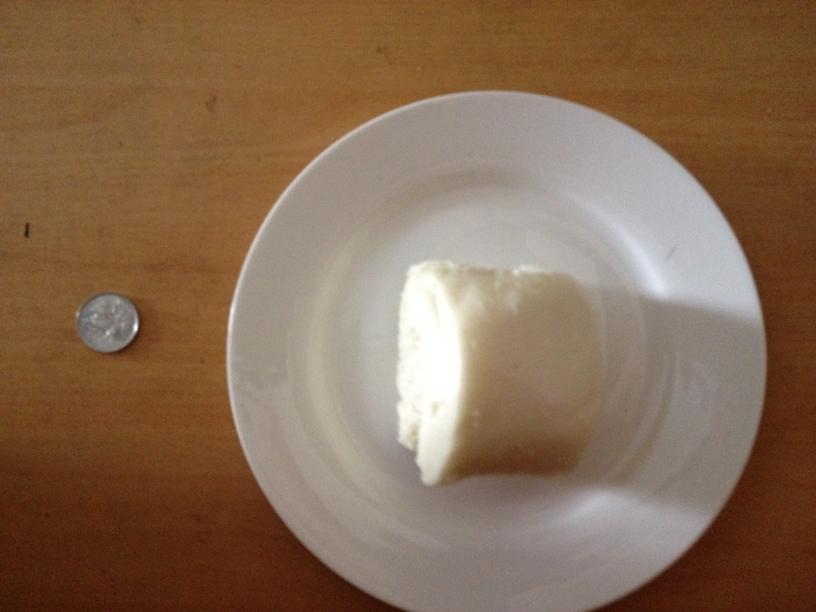bun: (391, 258, 599, 482)
coin: (75, 291, 140, 355)
